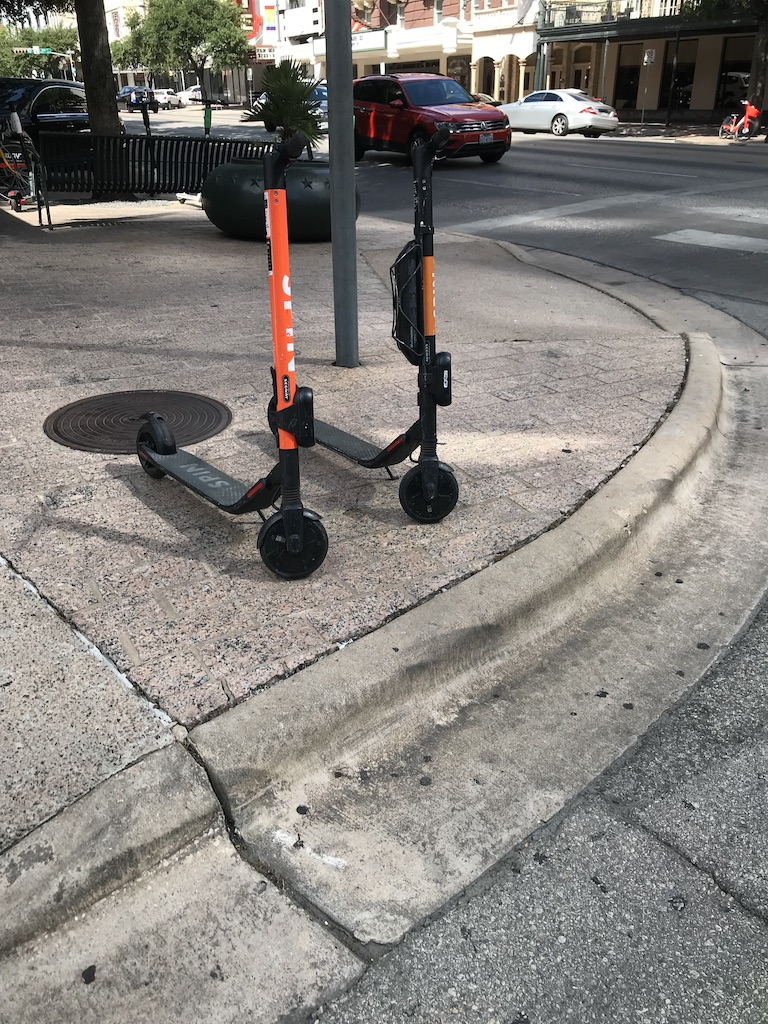scooter: (136, 132, 329, 580), (315, 129, 460, 525), (4, 102, 37, 213)
